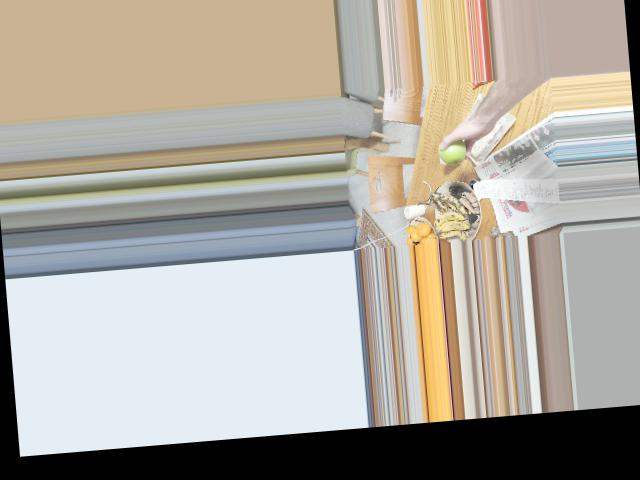apple: (435, 134, 471, 166)
